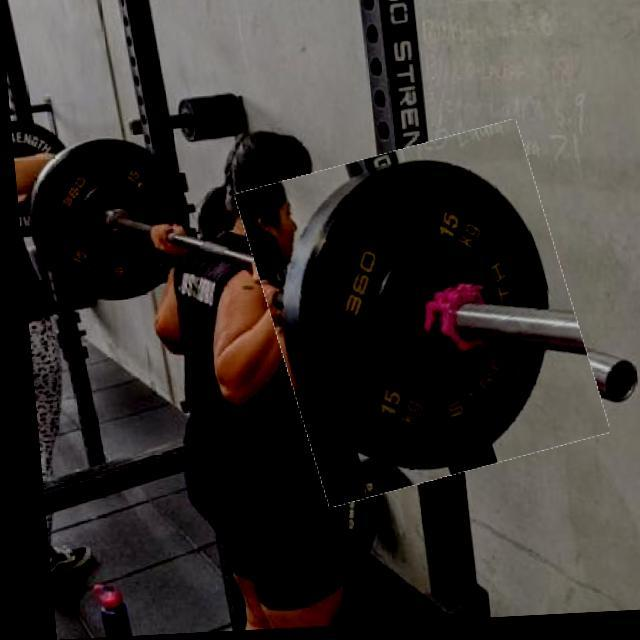barbell: (243, 137, 590, 501)
